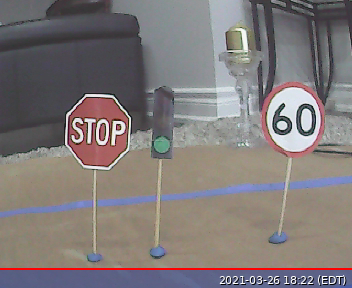Green Traffic Light: (150, 85, 176, 160)
Speed Limit 60: (261, 82, 324, 159)
Stop Sign: (63, 92, 131, 170)
